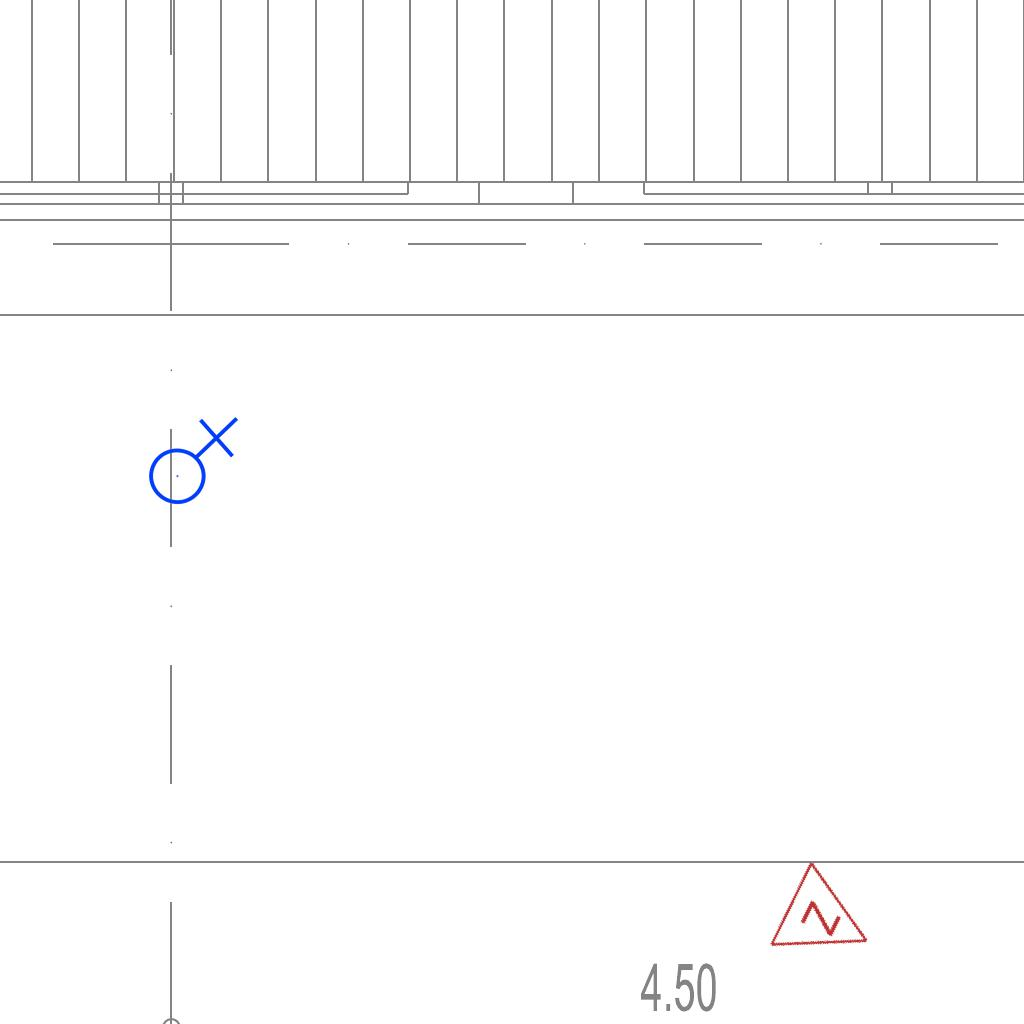Elektroanschluss_allgemein_230V_Geraeteanschlussdose_230V: (140, 412, 239, 506)
Zimmersignalleuchte: (762, 855, 896, 987)
